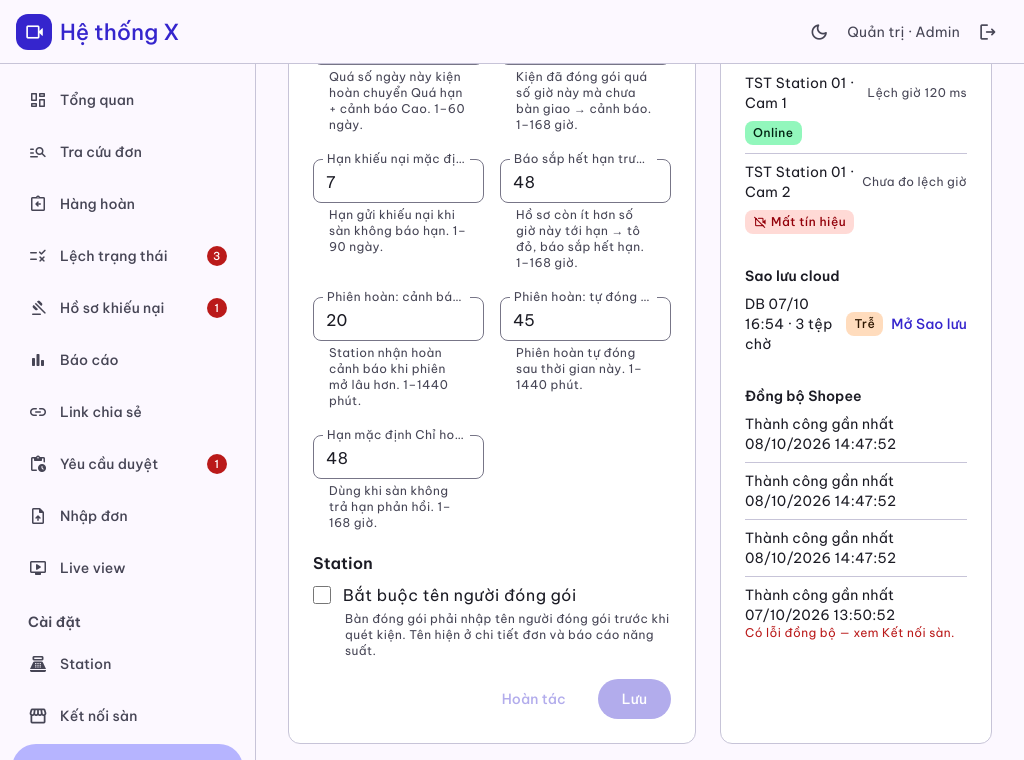
Test case: FR-03.16 / FR-08.08: bật 'Bắt buộc tên người đóng gói' + hạn Chỉ hoàn tiền 24 → Lưu gửi cả hai
The image size is (1024, 760).
(page scrolled)
Expected: the field labelled "Hạn mặc định Chỉ hoàn tiền (giờ)" holds "48", 313,435 -> 484,479
Expected: the button "Lưu" is disabled, 598,679 -> 671,719
Step 1. Click the switch labelled "Bắt buộc tên người đóng gói" → (322, 595), box 313,586 -> 331,604
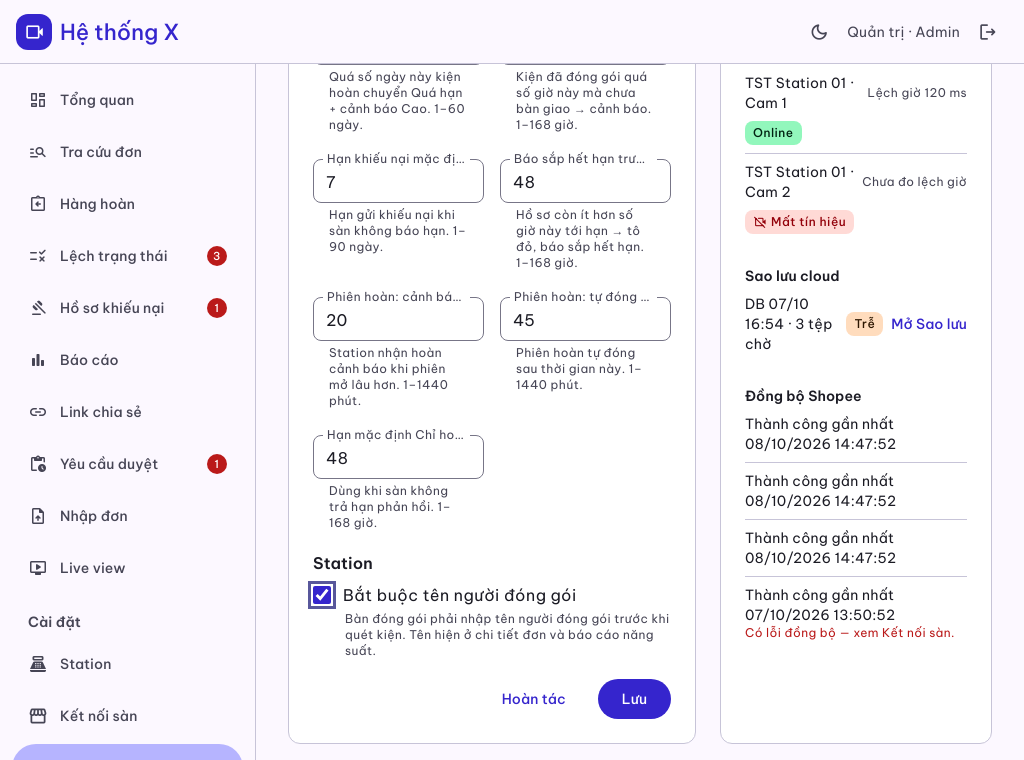
Now the button "Lưu" is enabled, box 598,679 -> 671,719
Step 2. Replace the text in the field labelled "Hạn mặc định Chỉ hoàn tiền (giờ)" with "200" → (398, 457), box 313,435 -> 484,479
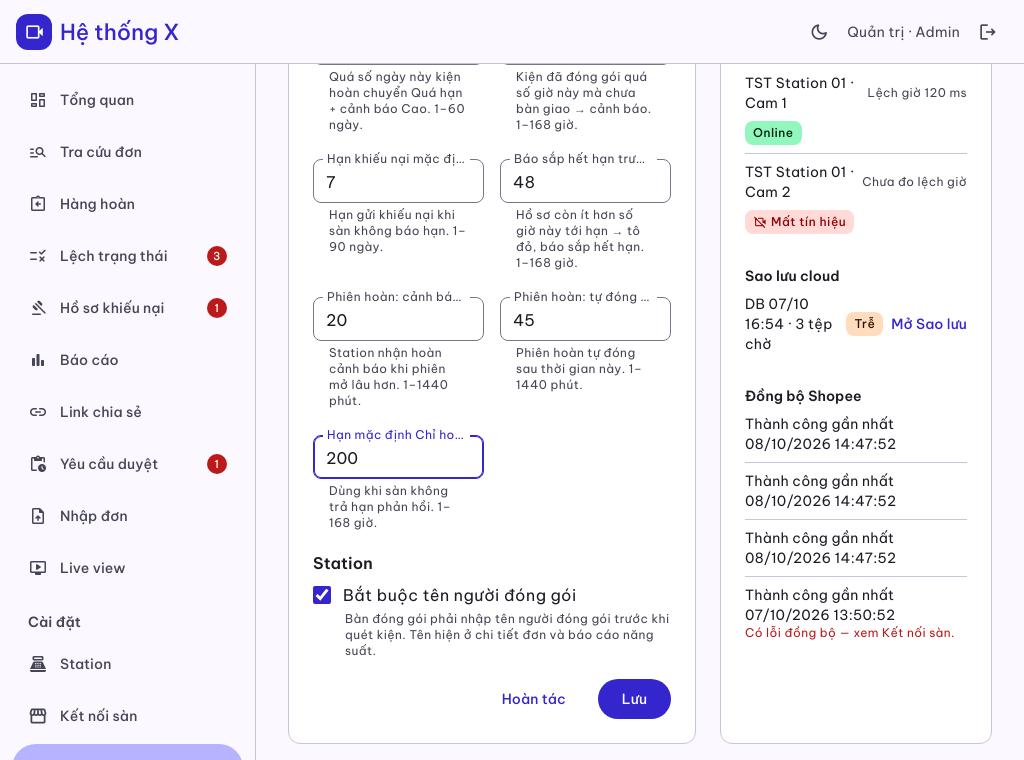
Step 3. Click the button "Lưu" → (634, 699), box 598,679 -> 671,719
(page scrolled)
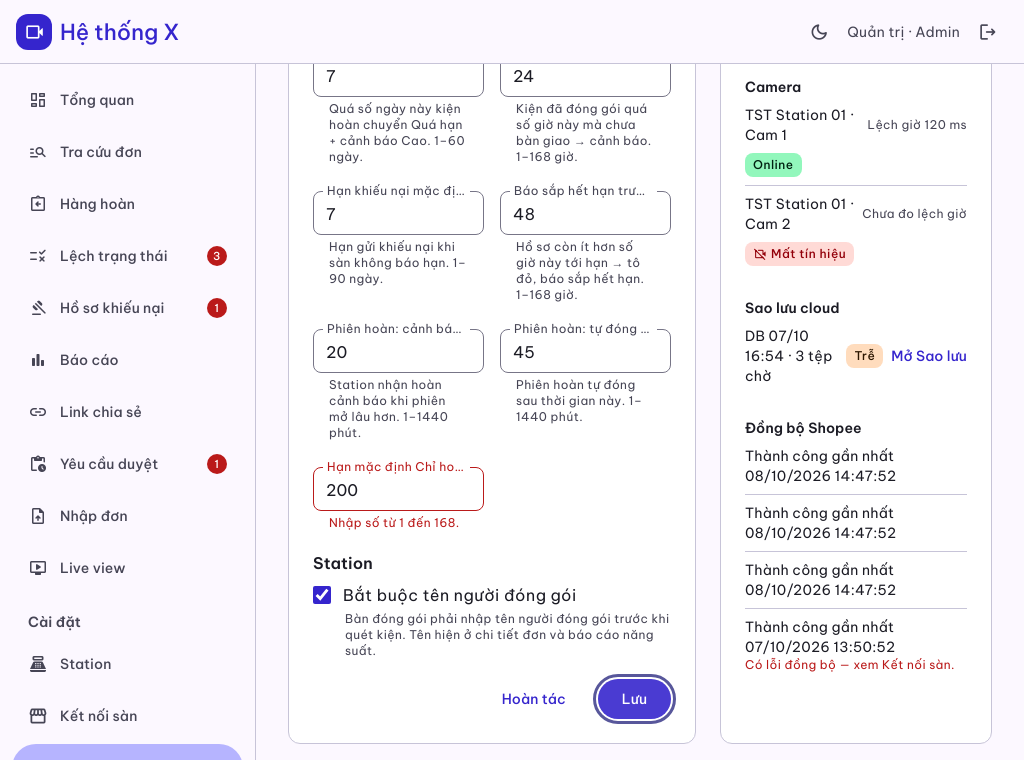
Now the text "Nhập số từ 1 đến 168." is shown, box 329,515 -> 460,530
Step 4. Replace the text in the field labelled "Hạn mặc định Chỉ hoàn tiền (giờ)" with "24" → (398, 489), box 313,467 -> 484,511
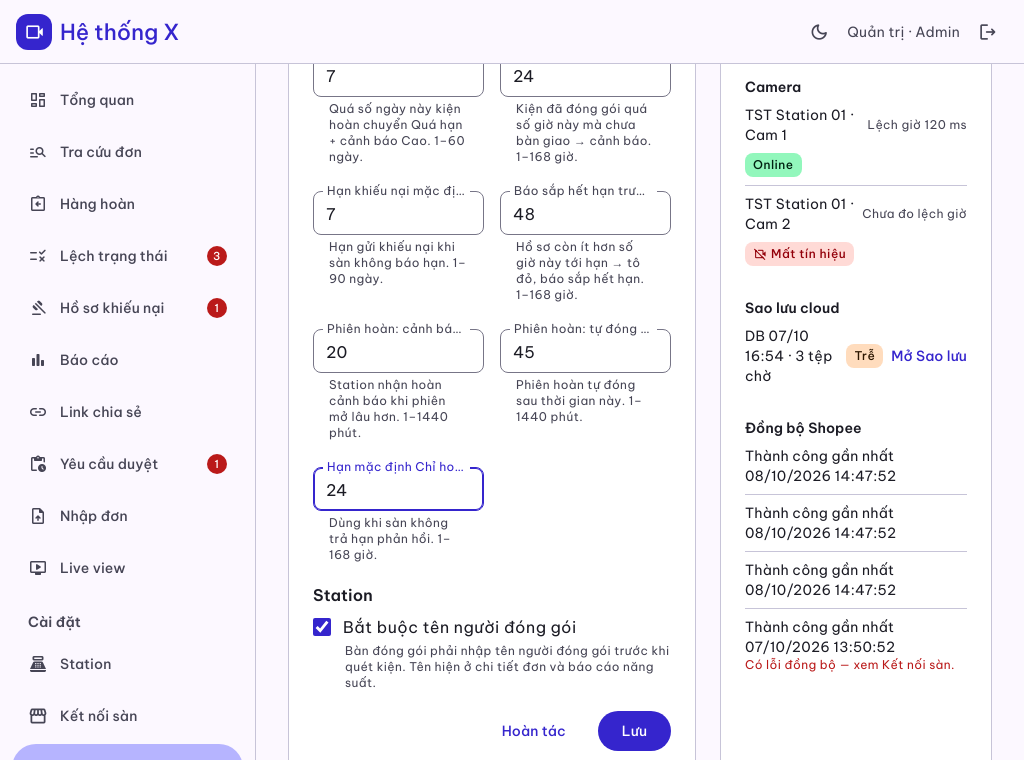
Step 5. Click the button "Lưu" → (634, 731), box 598,711 -> 671,751
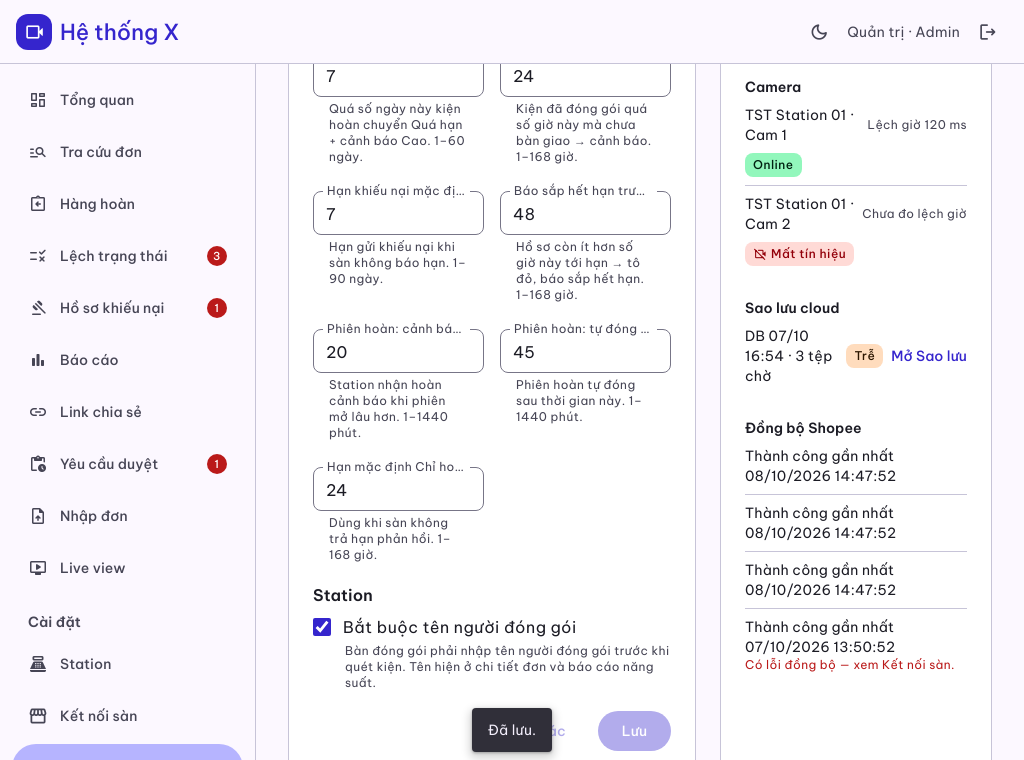
Now the switch labelled "Bắt buộc tên người đóng gói" is checked, box 313,618 -> 331,636
Now the text "Đã lưu." is shown, box 472,708 -> 552,752
